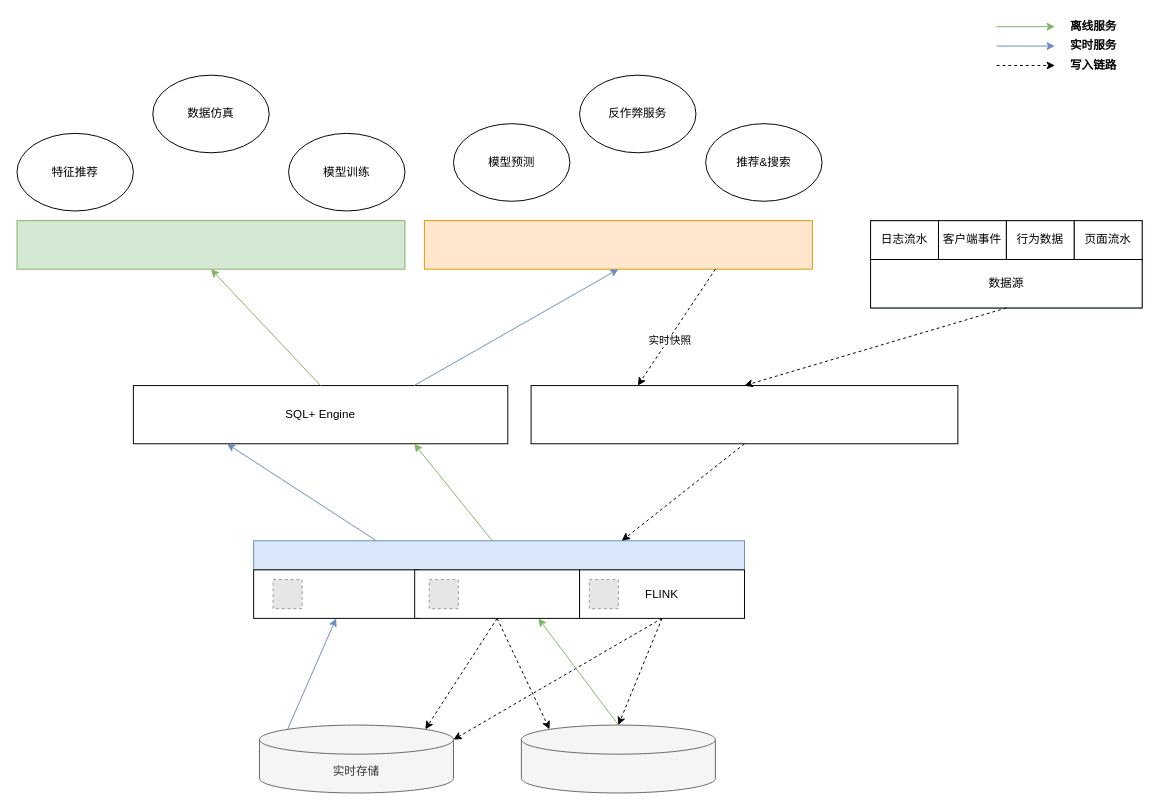
The diagram is 1159 pixels wide and 810 high, and some of its shapes have lost their labels. Grey dashed boxes stand in for pictures. Here are the shapes that lost their labels. From the top down, the box of each, then its label:
(16, 220, 405, 269): 离线特征计算
(423, 220, 812, 269): 实时特征服务
(530, 385, 958, 444): Sink Engine
(253, 540, 744, 570): 异构执行引擎
(253, 569, 419, 618): TRPC
(414, 569, 580, 618): SPARK
(520, 724, 715, 793): 离线存储
